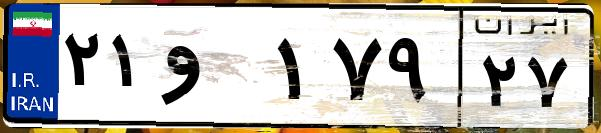1: (270, 28, 330, 110), (110, 28, 158, 98)
2: (57, 26, 110, 100), (475, 38, 525, 113)
7: (330, 28, 385, 110), (525, 38, 570, 115)
9: (385, 28, 445, 110)
و: (158, 20, 270, 120)
